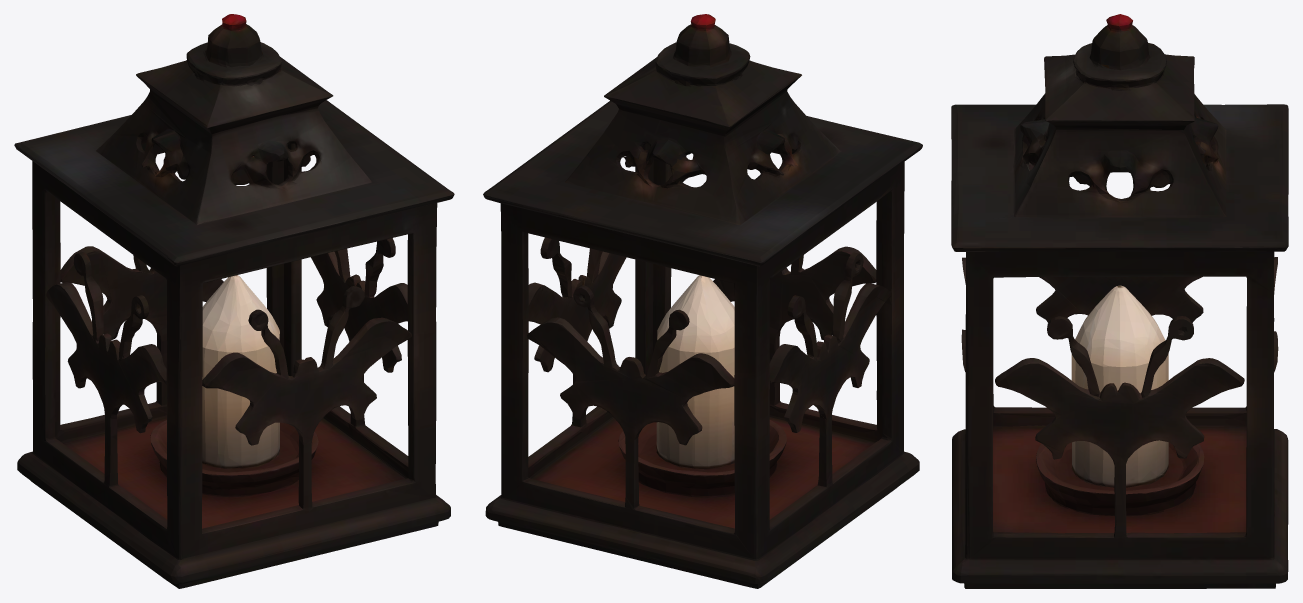
The model's file is lantern_bat.glb.
The picture shows the model from 3 angles, left to right: view 1: azimuth 30°, elevation 25°; view 2: azimuth 150°, elevation 25°; view 3: azimuth 270°, elevation 25°; orthographic projection. The views are drawn at different scales.
Parts seen in each view (by area): view 1: geometry_0; view 2: geometry_0; view 3: geometry_0.
Part boxes in pixels (x1,y1,x2,y2): geometry_0: (14, 14, 454, 588); geometry_0: (483, 14, 922, 588); geometry_0: (951, 14, 1288, 588).
Size of the model in its own units: 0.6028 by 0.9999 by 0.6029.
1 material, 1 textured.
